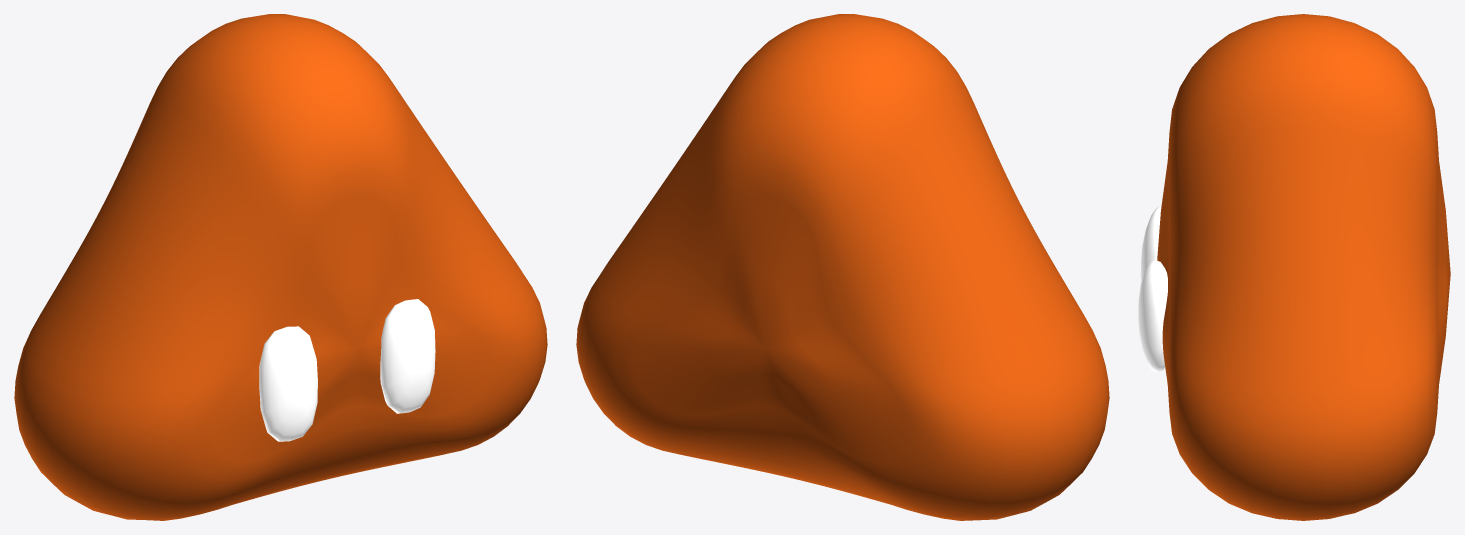
Rendered from substack.glb.
3 views of the same model, side by side, from view 1: azimuth 30°, elevation 25°; view 2: azimuth 150°, elevation 25°; view 3: azimuth 270°, elevation 25° (orthographic). The views are drawn at different scales.
Parts seen in each view (by area): view 1: body, eye_L, eye_R; view 2: body; view 3: body, eye_R, eye_L.
Part boxes in pixels (left/top/right/bottom): body: left=14, top=14, right=547, bottom=520; eye_L: left=259, top=326, right=317, bottom=441; eye_R: left=380, top=299, right=435, bottom=413; body: left=576, top=14, right=1109, bottom=520; body: left=1157, top=14, right=1450, bottom=520; eye_R: left=1138, top=259, right=1167, bottom=372; eye_L: left=1140, top=206, right=1161, bottom=281.
Bounding box in the file's own units: 0.8 × 0.6758 × 0.4666.
